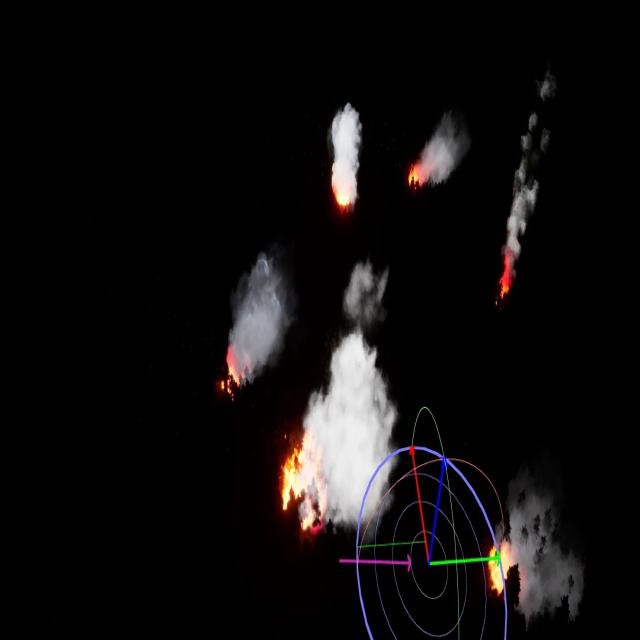fire: (278, 435, 330, 536), (484, 544, 517, 588), (216, 354, 247, 392), (499, 252, 518, 308), (410, 162, 428, 191), (334, 188, 354, 210)
smoke: (303, 260, 398, 529), (504, 473, 584, 630), (228, 256, 293, 376), (505, 87, 551, 251), (425, 110, 474, 178), (331, 100, 364, 184)
